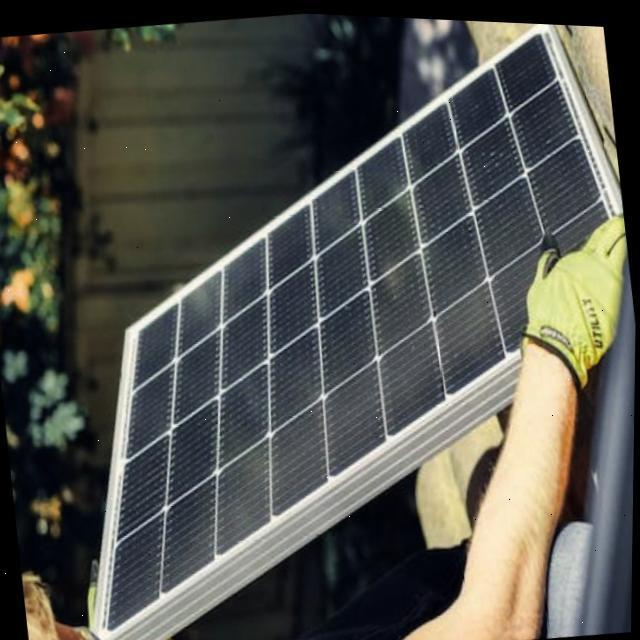Normal Solar Panel: (38, 2, 640, 640)
